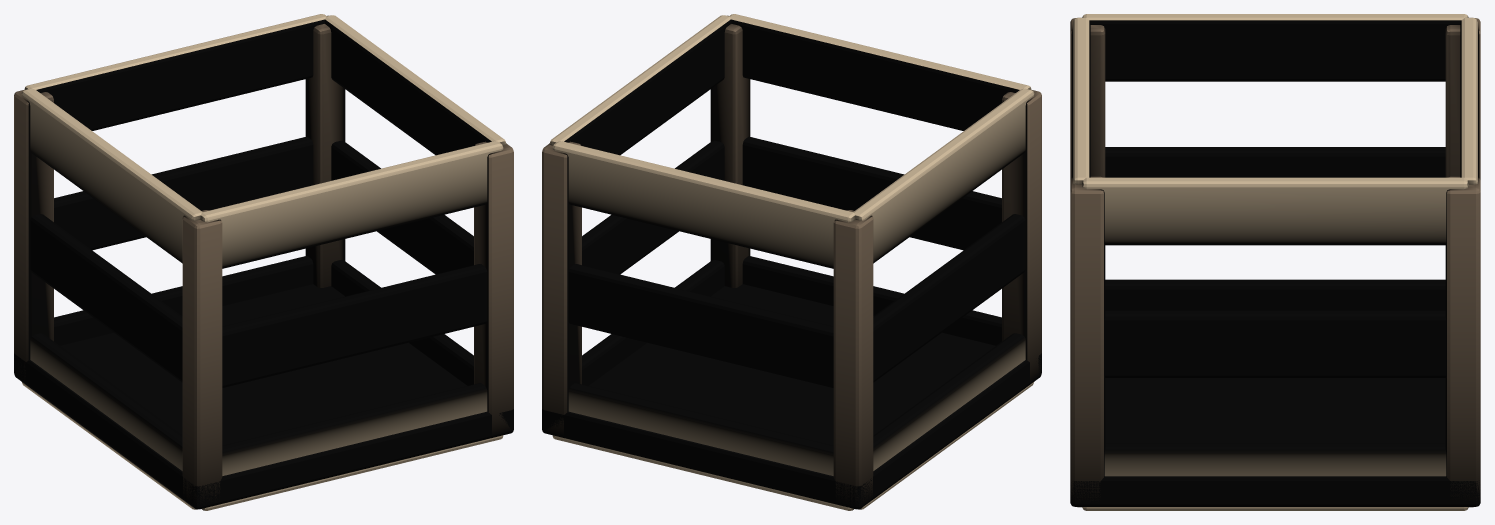
Rendered from crate.glb.
The picture shows the model from 3 angles, left to right: view 1: azimuth 30°, elevation 25°; view 2: azimuth 150°, elevation 25°; view 3: azimuth 270°, elevation 25°; orthographic projection. The views are drawn at different scales.
Parts seen in each view (by area): view 1: base; view 2: base; view 3: base.
Part boxes in pixels (<box>): base: <box>14,14,513,510</box>; base: <box>542,14,1041,510</box>; base: <box>1070,14,1480,510</box>.
Bounding box in the file's own units: 0.7 × 0.62 × 0.7.
